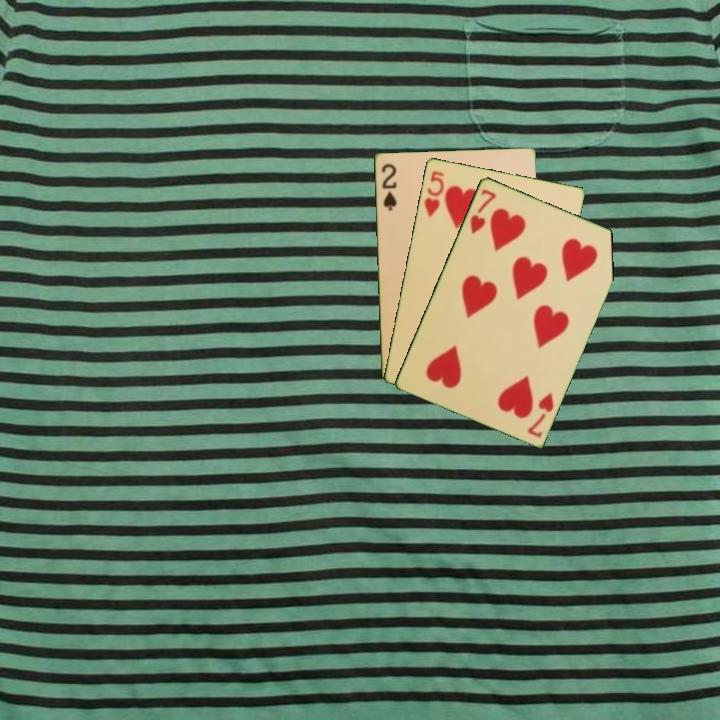2s: (378, 160, 399, 213)
5h: (420, 167, 447, 219)
7h: (466, 185, 499, 237), (523, 389, 556, 440)
